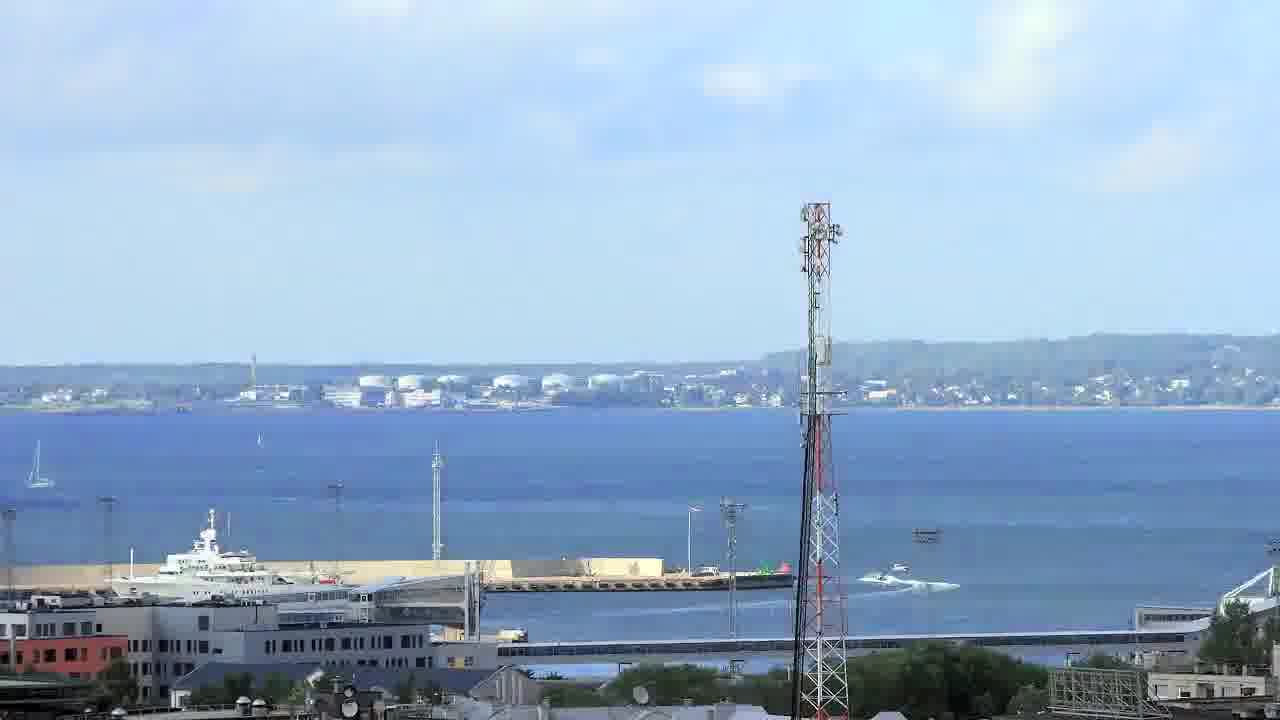type-2: (13, 441, 59, 500)
type-3: (96, 516, 363, 605)
type-4: (852, 553, 956, 610)
